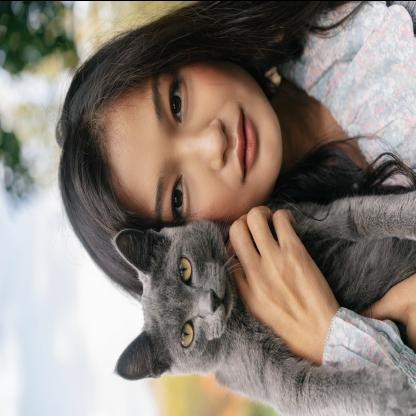Eye: (162, 75, 188, 132), (167, 168, 192, 220)
Mouth: (231, 98, 262, 190)
Nose: (182, 113, 230, 176)
